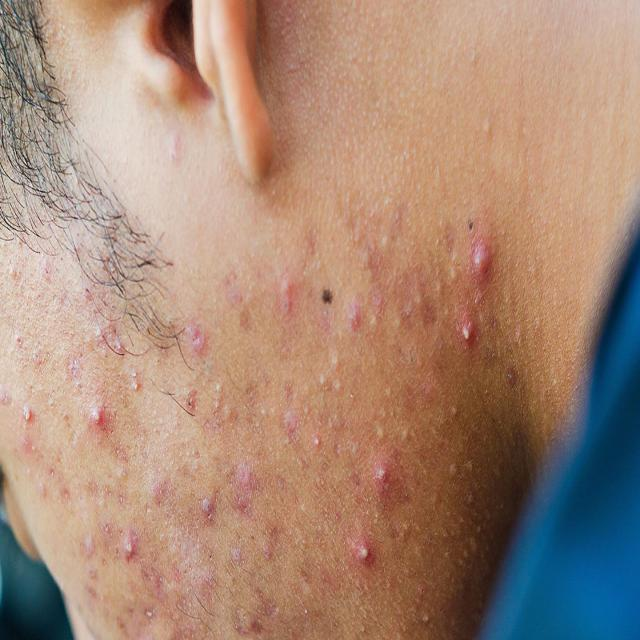Acne: (14, 297, 486, 630)
